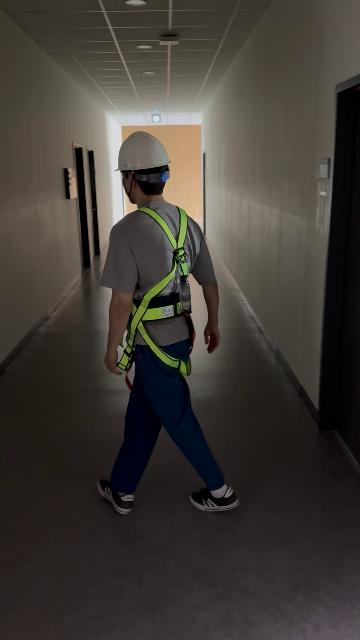helmet_worn: (114, 130, 171, 171)
shoe_not_worn: (189, 484, 239, 511), (97, 478, 133, 515)
vest_worn: (120, 211, 199, 374)
